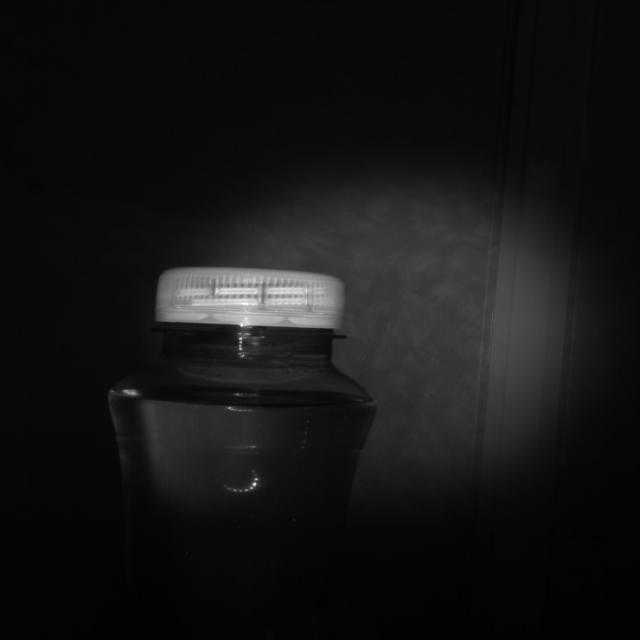Good: (154, 268, 345, 330)
